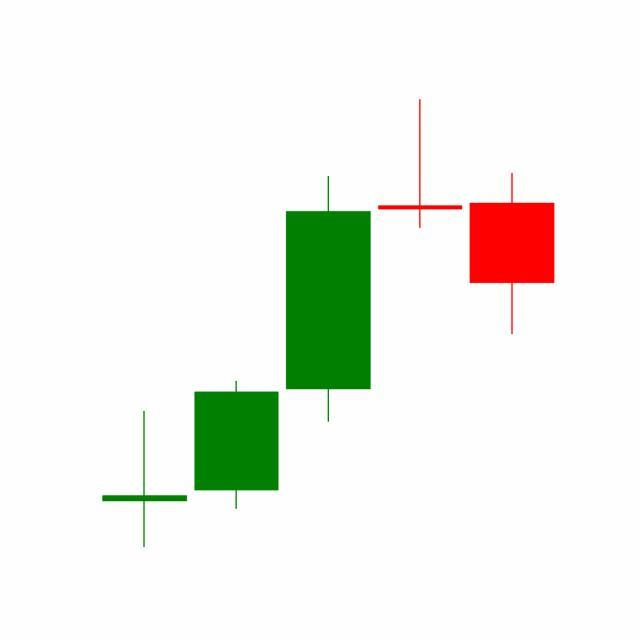Evening Star: (280, 100, 555, 427)
